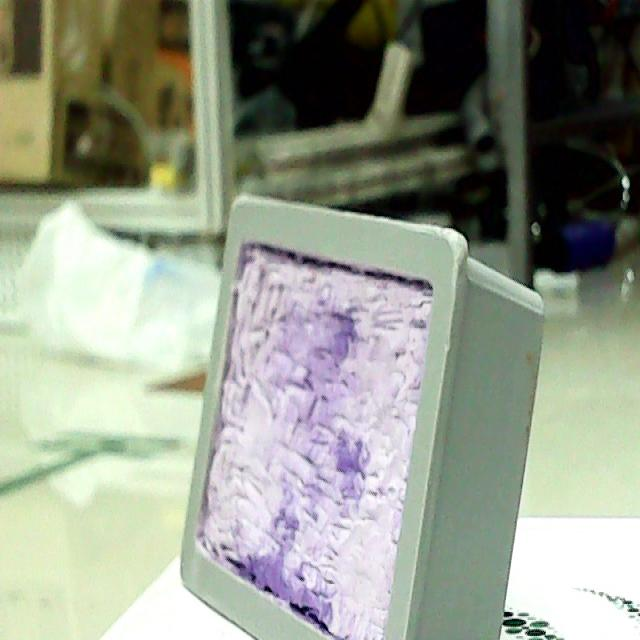block: (174, 189, 542, 640)
